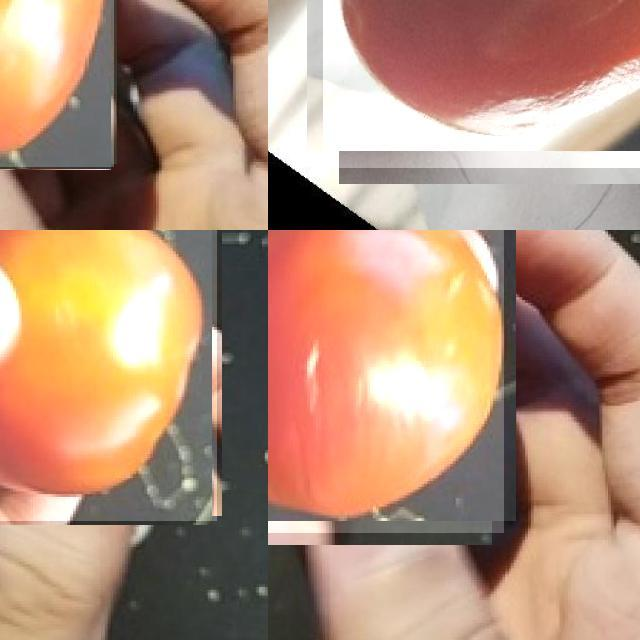Fresh Tomato: (0, 230, 217, 520), (0, 0, 114, 167)
Rotten Tomato: (268, 230, 504, 533), (322, 0, 640, 167)
